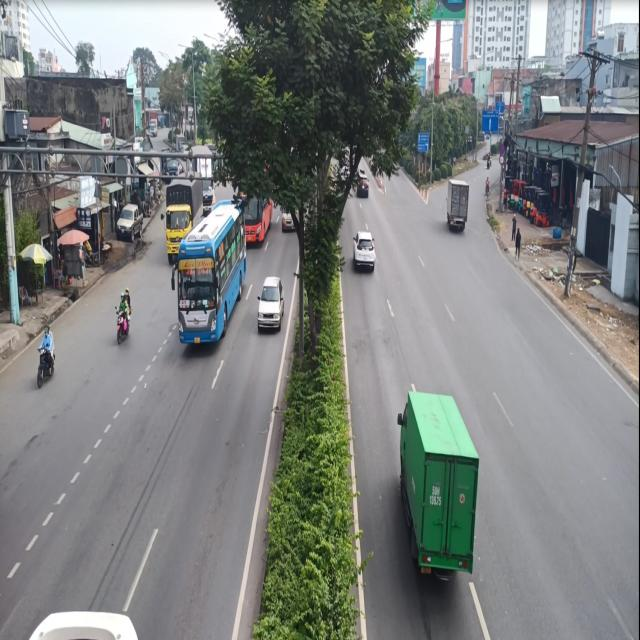bus: (174, 201, 252, 362)
car: (256, 270, 284, 343), (352, 225, 378, 275)
motor: (34, 316, 57, 396), (111, 283, 136, 348)
truck: (393, 375, 484, 599), (159, 173, 199, 250), (443, 170, 470, 243)
